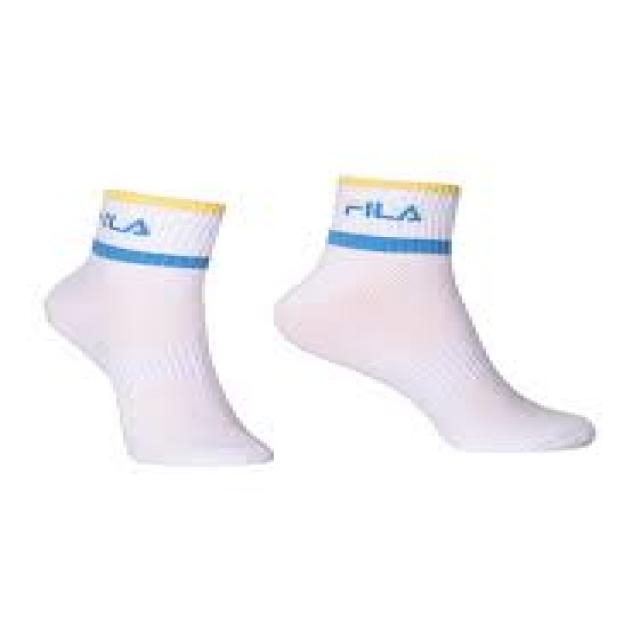sock: (270, 173, 596, 453), (41, 187, 274, 465)
